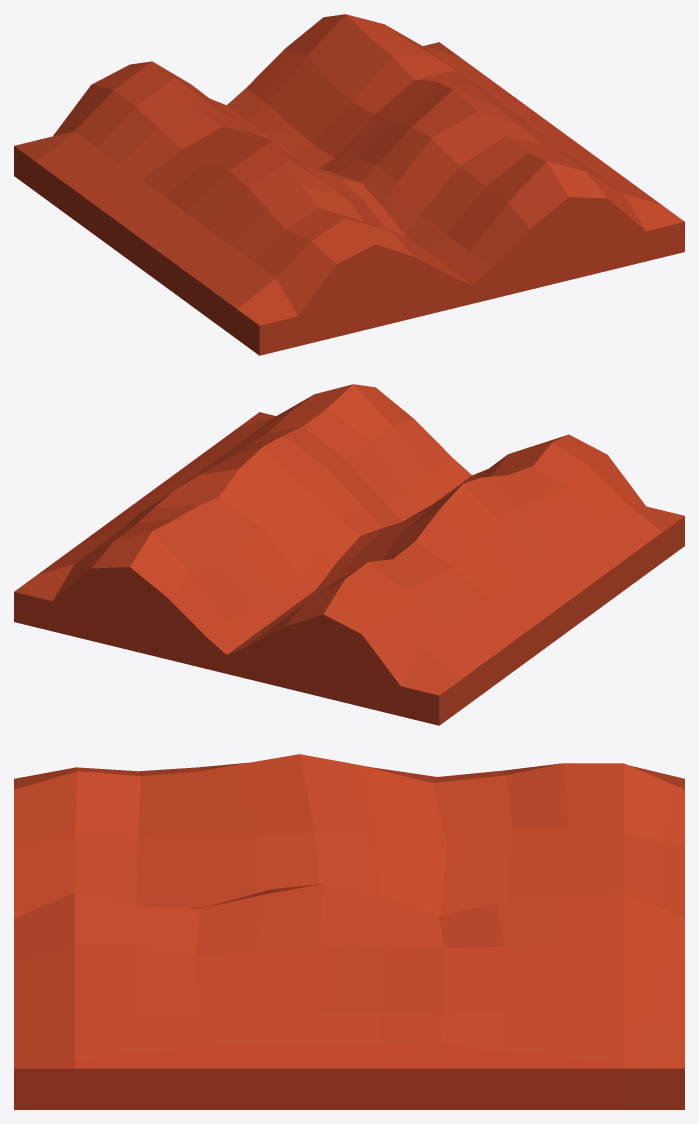
File: omgeploegde grond.fbx
3 renders of one model, top to bottom at view 1: azimuth 30°, elevation 25°; view 2: azimuth 150°, elevation 25°; view 3: azimuth 270°, elevation 25°, orthographic. The views are drawn at different scales.
Parts seen in each view (by area): view 1: tilted ground; view 2: tilted ground; view 3: tilted ground.
Boxes of the visible parts, x1,y1,x2,y2 form: tilted ground: (14, 14, 684, 355); tilted ground: (14, 384, 684, 725); tilted ground: (14, 754, 684, 1109).
Bounding box in the file's own units: 2 × 0.4951 × 2.
